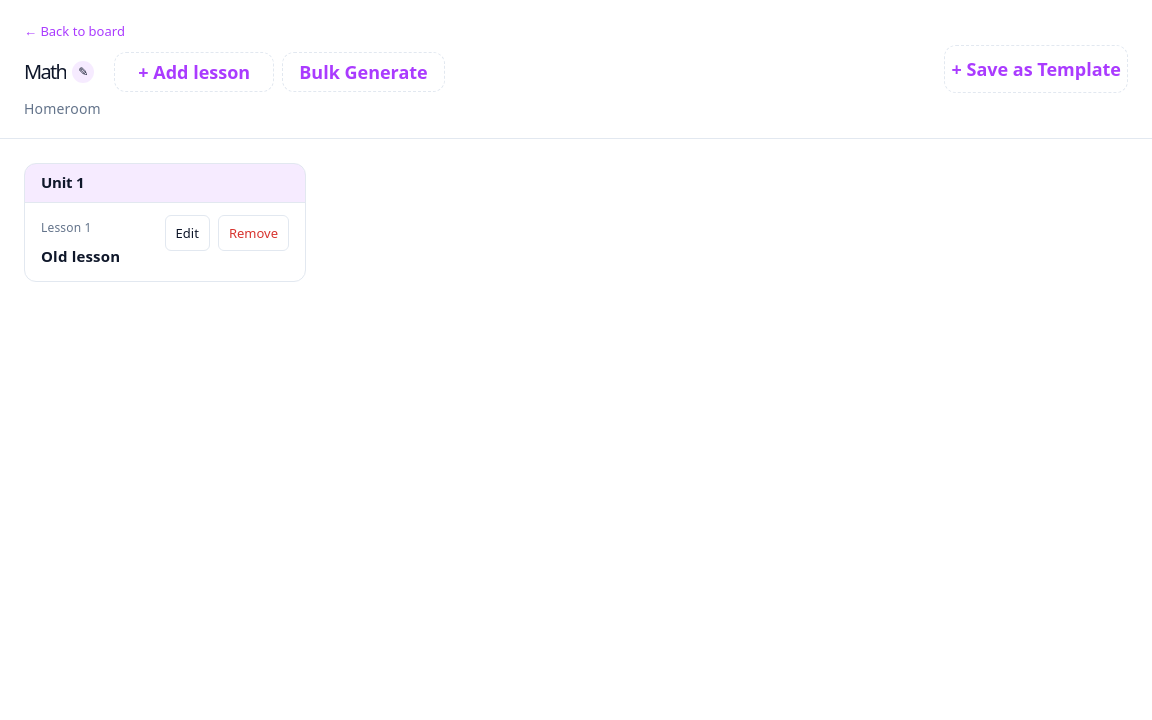
Test case: Curriculum › Auto-generate (#217) › Replace curriculum commits the proposed lessons, replacing the subject existing curriculum, and closes the modal
Click the button "Bulk Generate": (363, 72) [282,52,445,92]
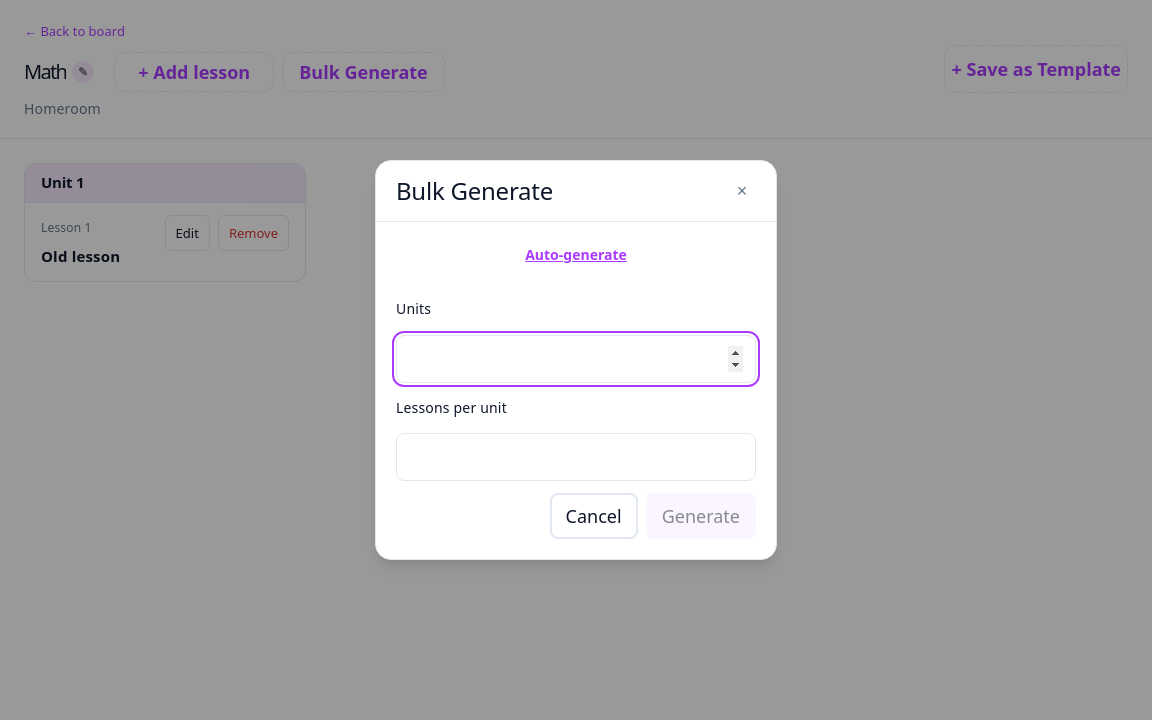
Click the button "Auto-generate": (576, 255) [396,242,756,268]
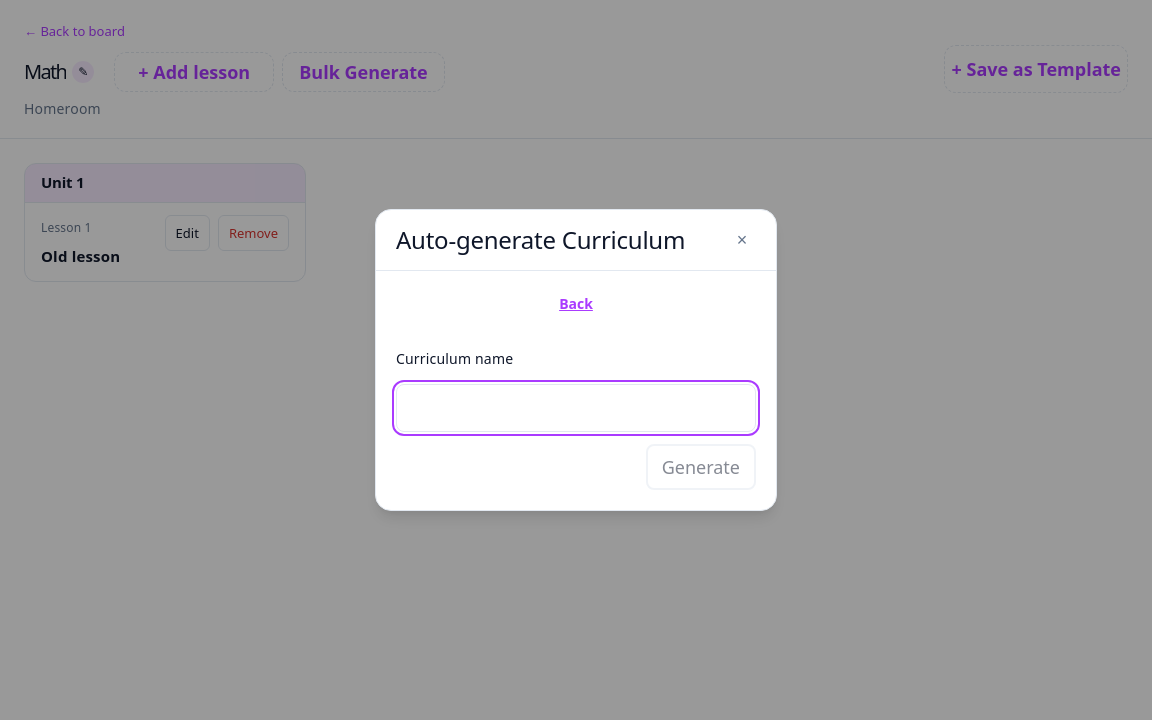
In the field labelled "Curriculum name": (576, 408) [396,384,756,432], type "Algebra 1"
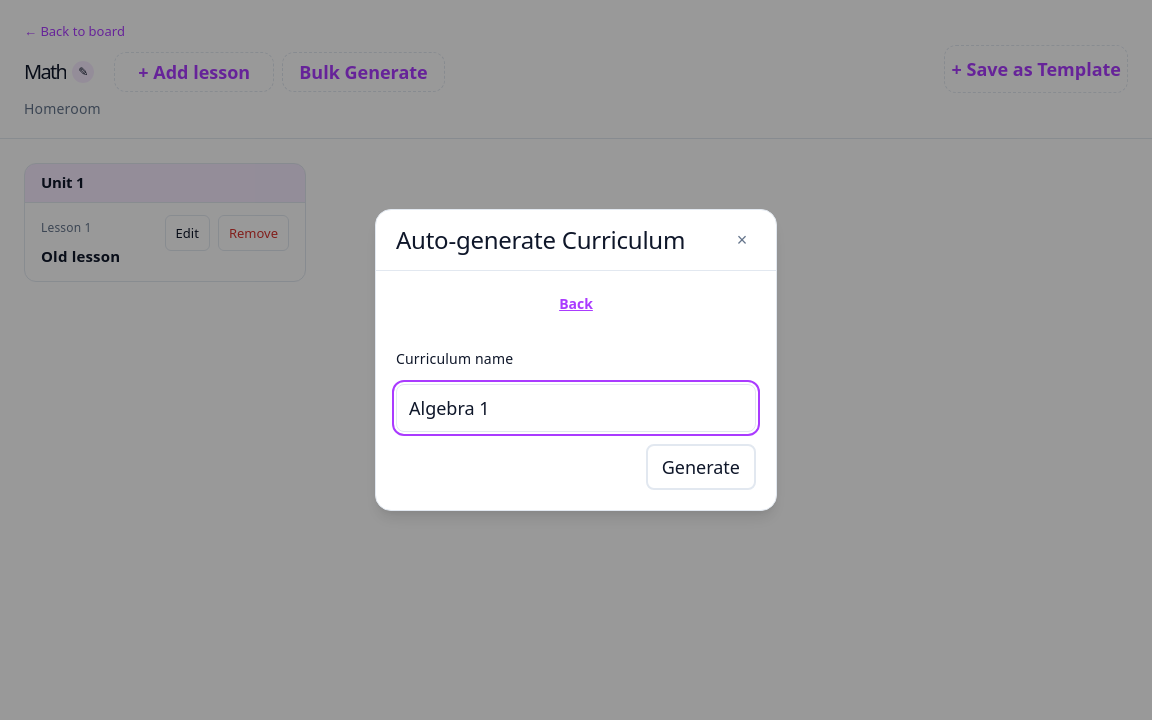
Click the button "Generate": (701, 467) [646,444,756,490]
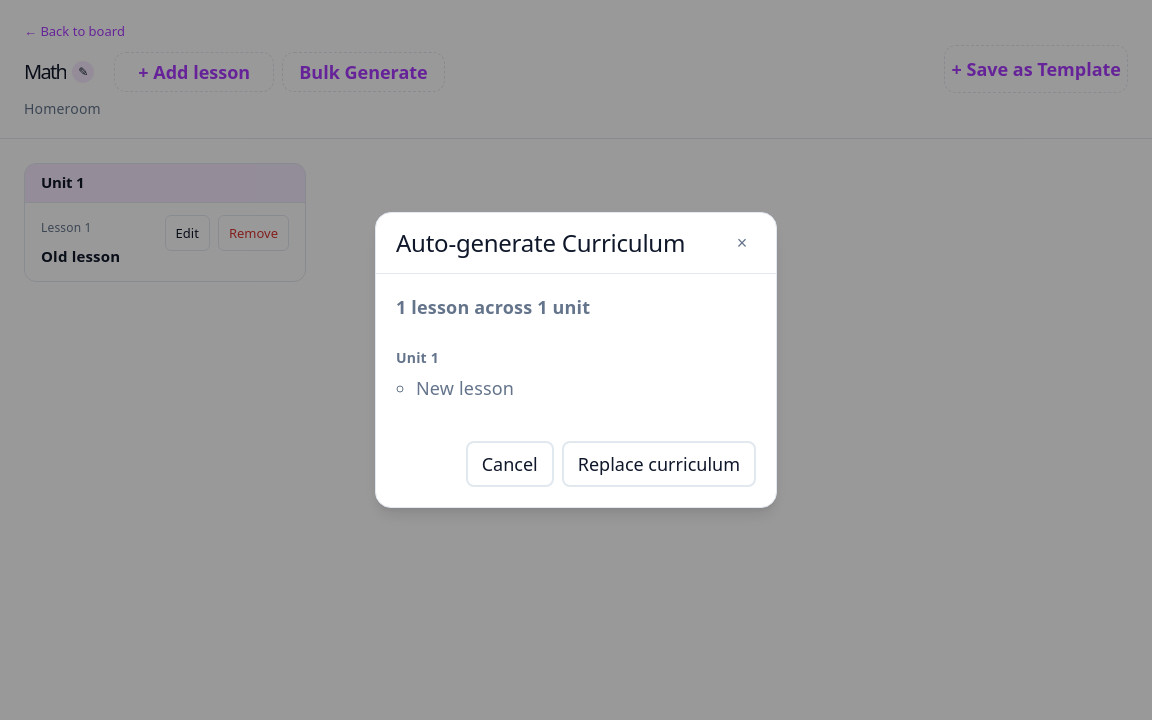
Expected: the text "1 lesson across 1 unit" is shown, [396,296,590,320]
Click the button "Replace curriculum": (659, 464) [562,441,756,487]
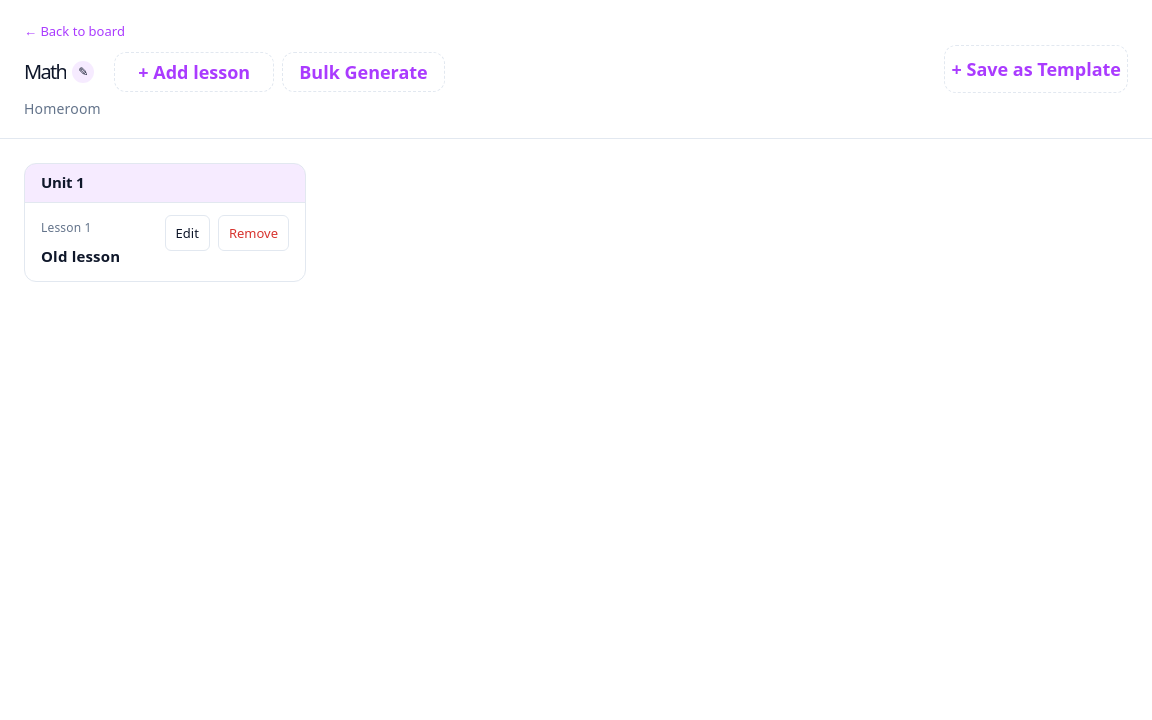
Expected: the dialog is gone
